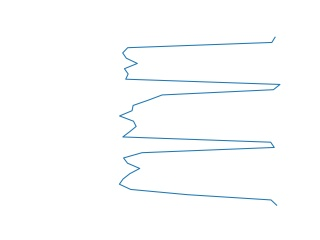majorRiverChannelBar: (117, 35, 285, 208)
